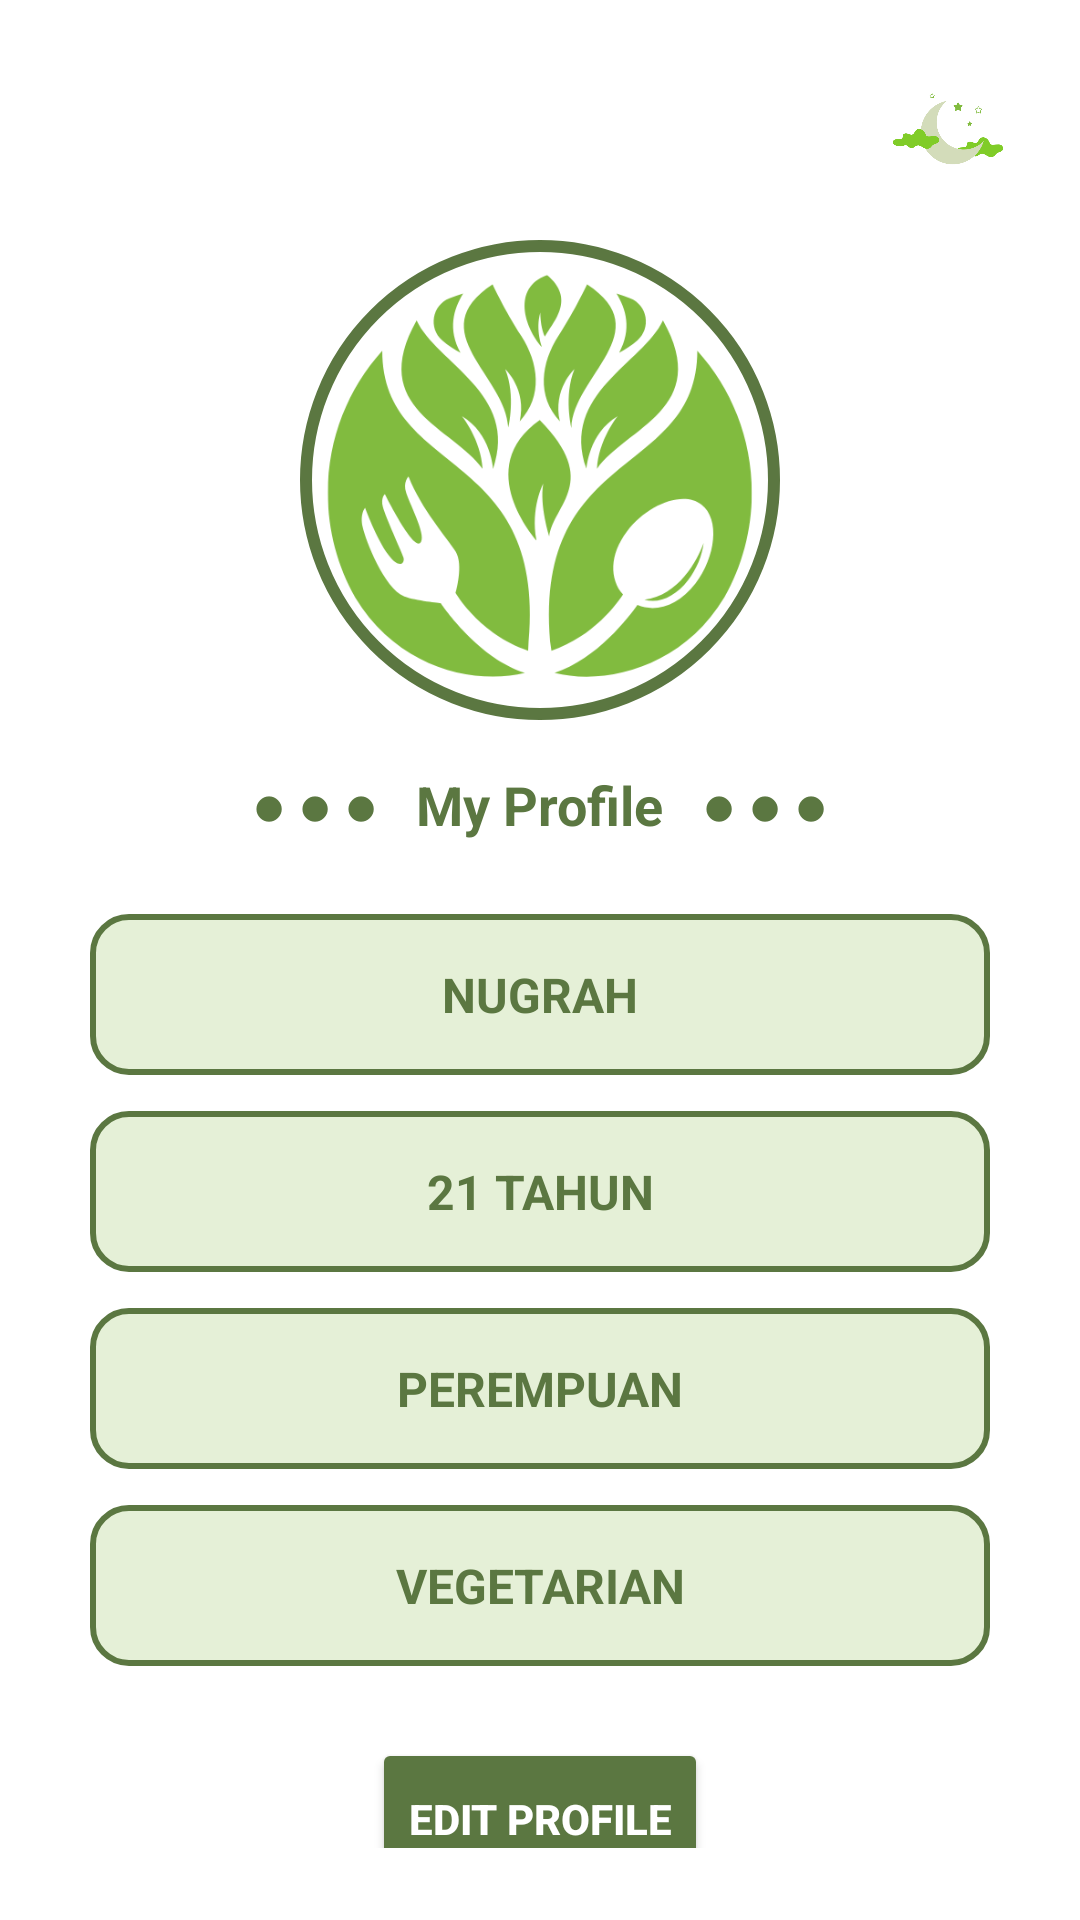

Icon click points for this 1080w x 1920h phone screenshot, format point (x, y):
Toggle Theme: point (948, 128)
